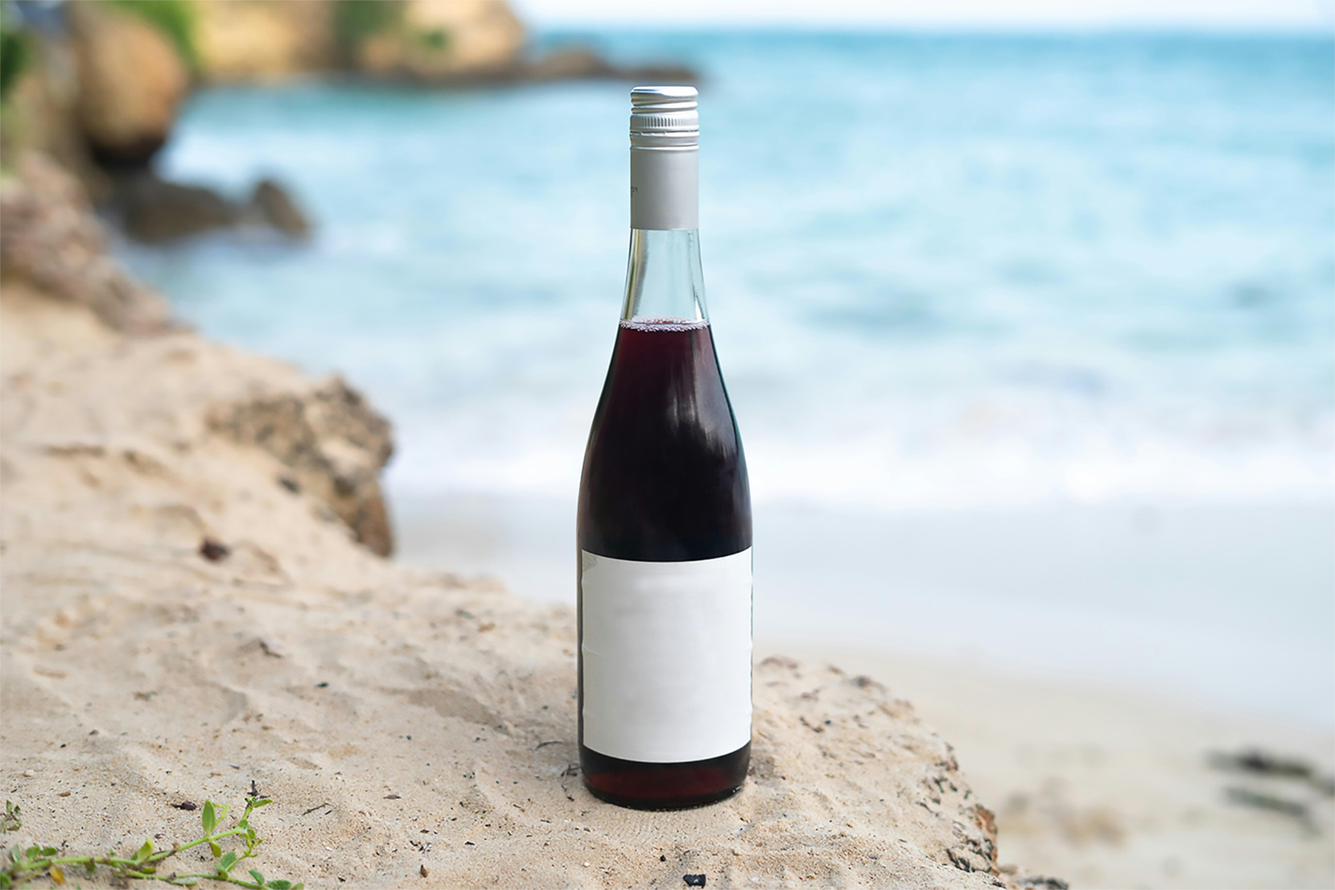Bottle-Detection: (521, 54, 810, 838)
